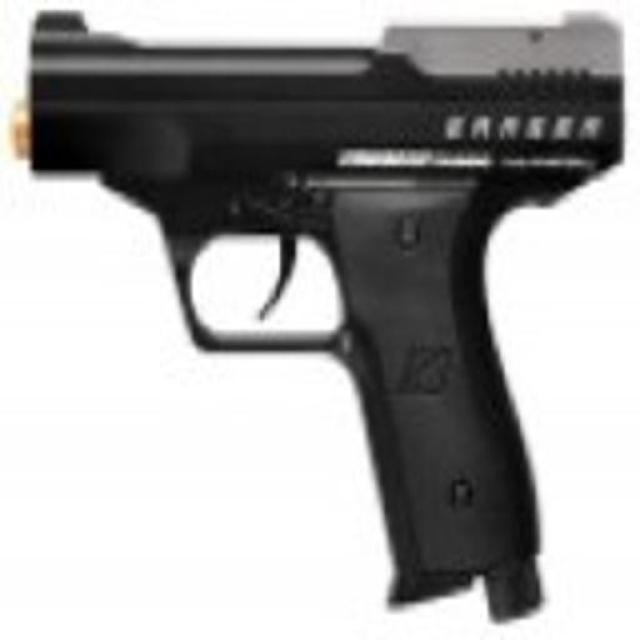pistol: (20, 5, 627, 617)
